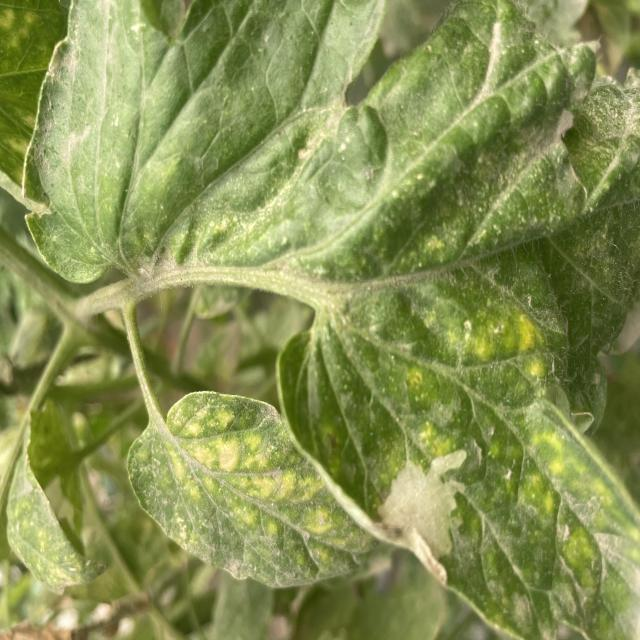Tuta absoluta: (373, 441, 467, 564)
